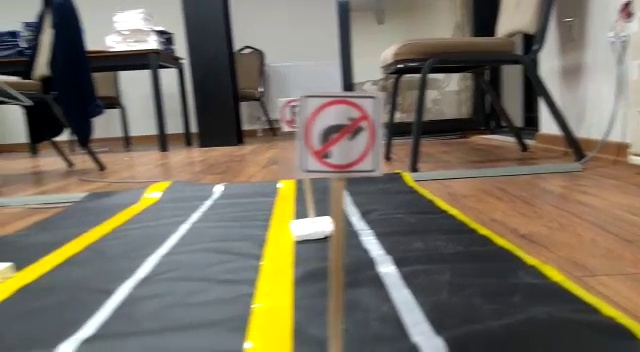saga_donulmez: (302, 96, 380, 173)
